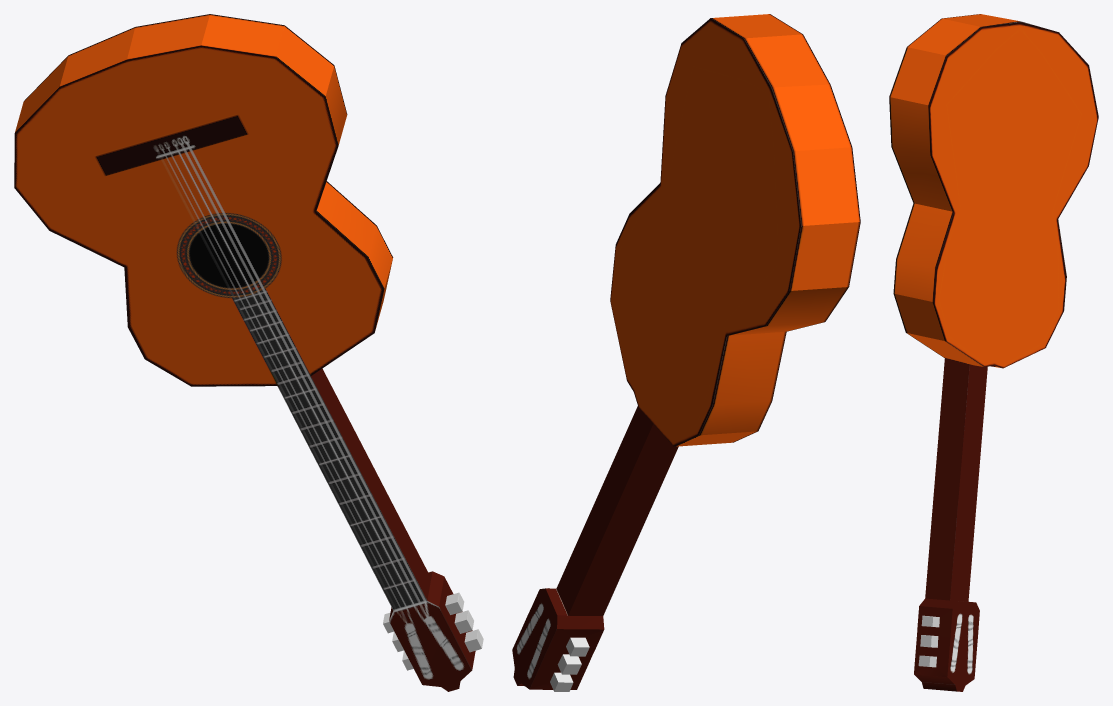
File: Guitarra2_000017.obj
3 renders of one model, left to right at view 1: azimuth 30°, elevation 25°; view 2: azimuth 150°, elevation 25°; view 3: azimuth 270°, elevation 25°, orthographic. The views are drawn at different scales.
Parts seen in each view (by area): view 1: g2_pPlane4.001; view 2: g2_pPlane4.001; view 3: g2_pPlane4.001.
Part boxes in pixels (x1,y1,x2,y2): g2_pPlane4.001: (14,14,483,691); g2_pPlane4.001: (512,14,860,691); g2_pPlane4.001: (889,14,1098,691).
Bounding box in the file's own units: 6.95 × 11.66 × 3.83.
